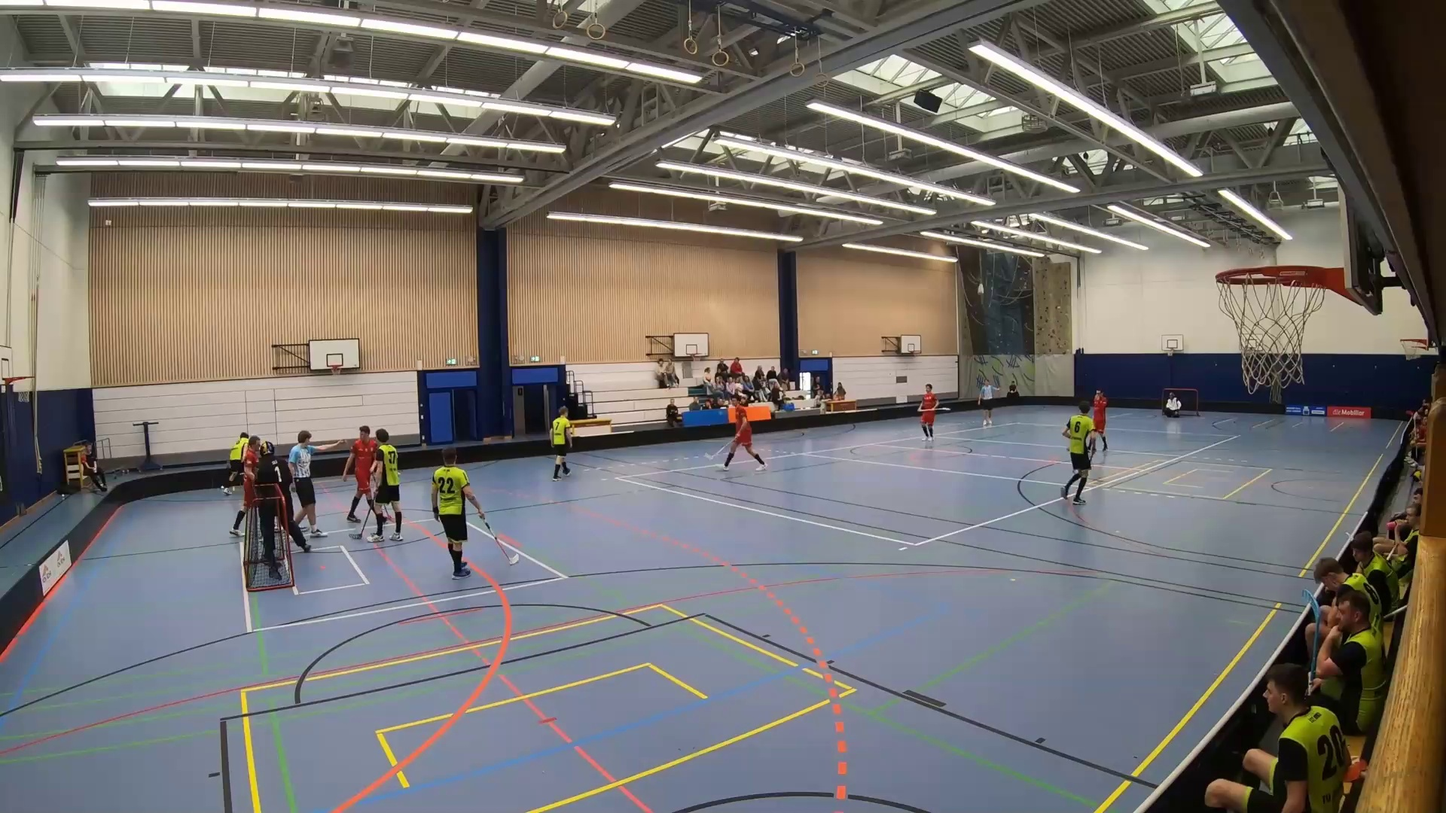Schiri: (286, 425, 347, 544), (974, 376, 1001, 425)
ball: (220, 484, 224, 490)
goalkeeper: (250, 441, 314, 554), (1160, 391, 1190, 422)
player: (425, 436, 533, 595), (698, 383, 782, 499), (349, 423, 413, 553), (1051, 399, 1099, 515), (537, 395, 583, 484), (906, 372, 956, 453), (345, 417, 376, 544), (233, 430, 266, 530), (210, 426, 246, 498), (1083, 383, 1114, 457)
